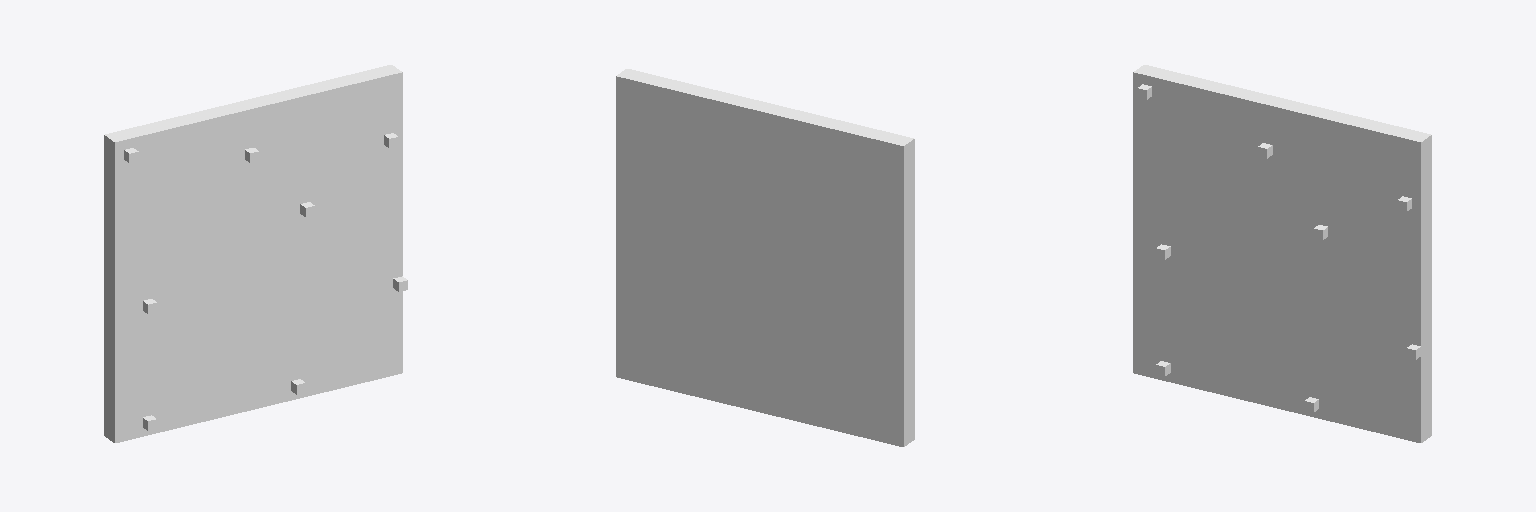
File: Park3.obj
3 renders of one model, left to right at view 1: azimuth 30°, elevation 25°; view 2: azimuth 150°, elevation 25°; view 3: azimuth 330°, elevation 25°, orthographic.
Parts seen in each view (by area): view 1: Park3; view 2: Park3; view 3: Park3.
Boxes of the visible parts, box(x1,y1,x2,y2) form: Park3: box(104, 65, 407, 442); Park3: box(616, 69, 914, 446); Park3: box(1133, 65, 1431, 442).
Bounding box in the file's own units: 31 × 31 × 3.